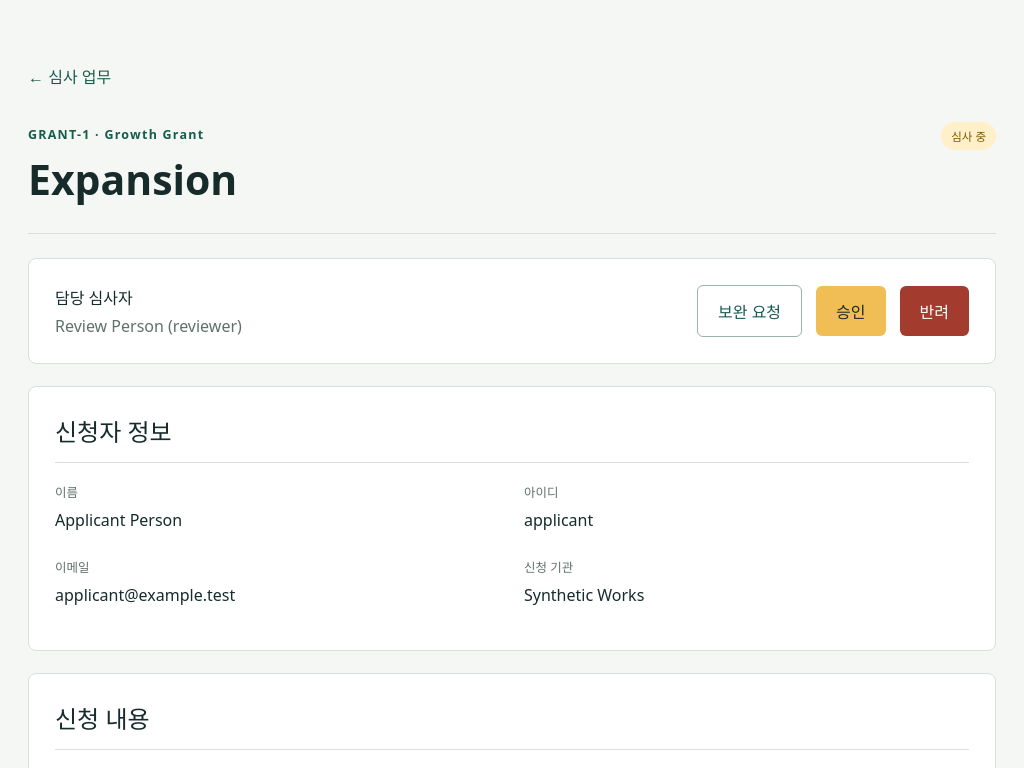
Test case: ReviewerApplicationPage › requires a reason before 보완 요청
The image size is (1024, 768).
Click the button "보완 요청" at (750, 311), box 697,285 -> 802,337
(page scrolled)
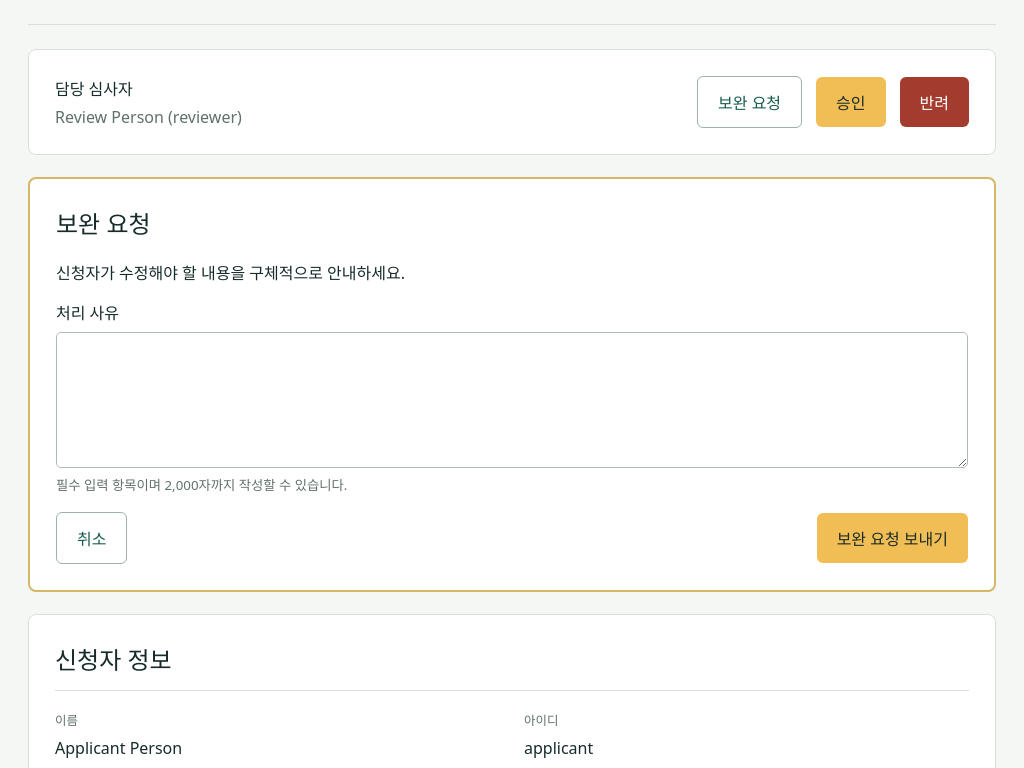
Submit the form named "보완 요청 보내기", box 28,177 -> 996,592
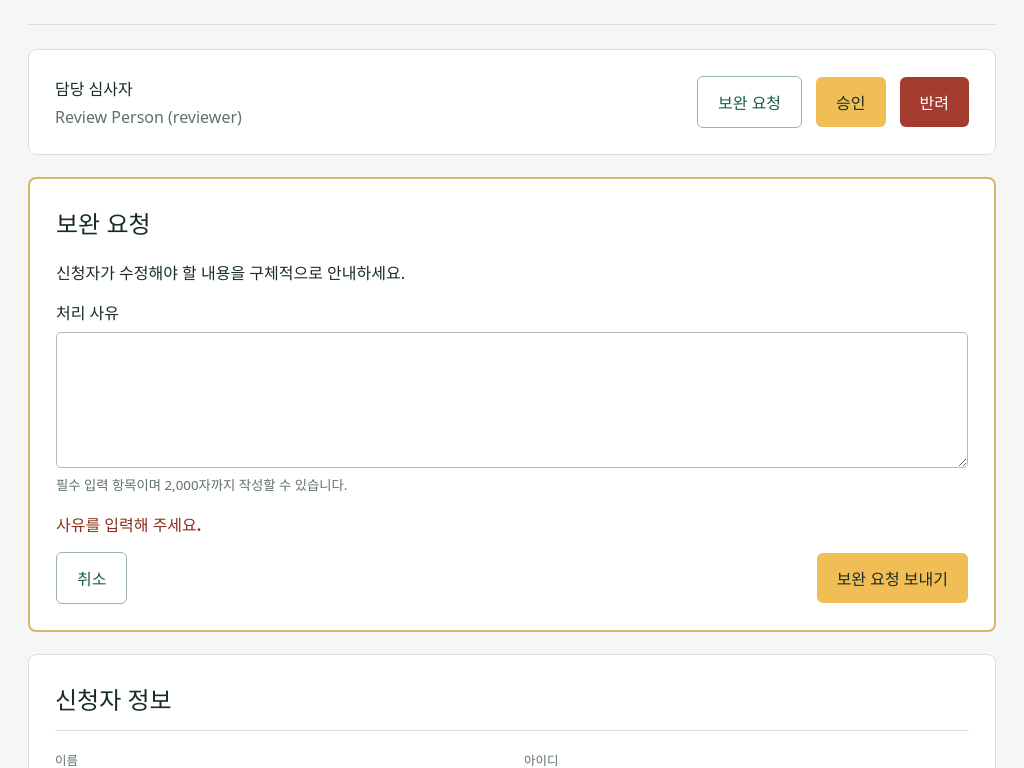
Check: the text "사유를 입력해 주세요." is shown, box 56,514 -> 201,536
